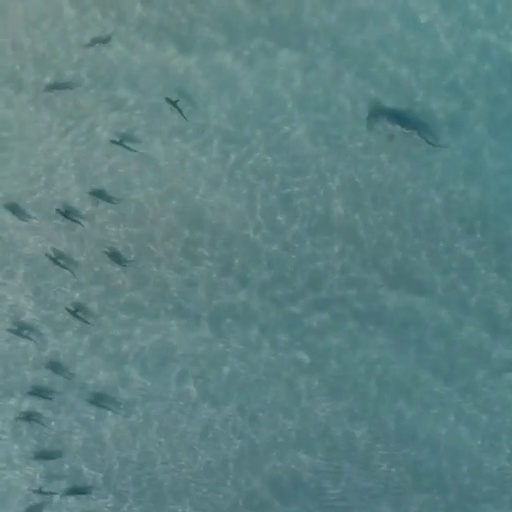shark: (365, 102, 446, 153)
